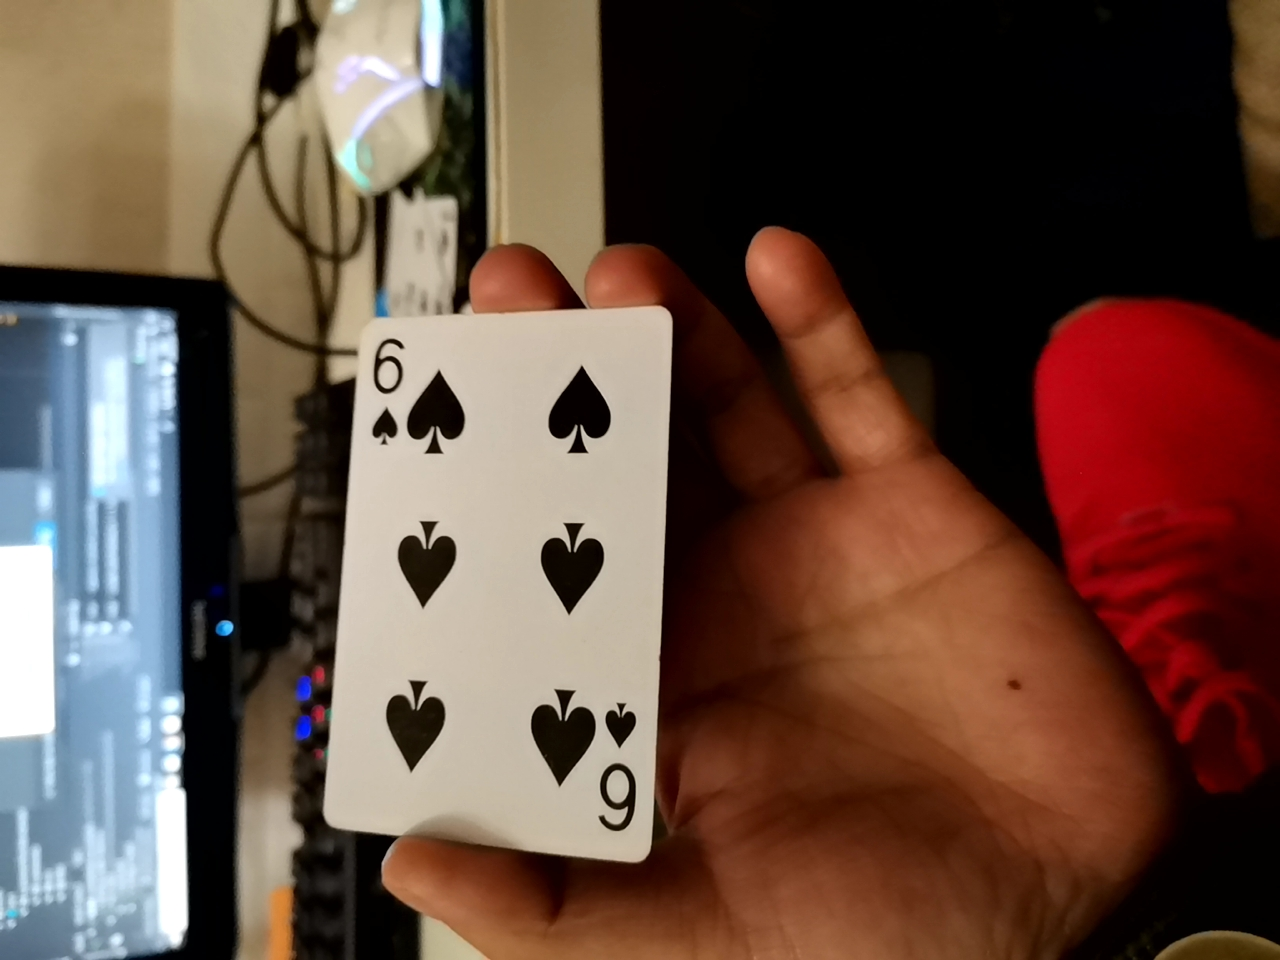ht 6: (321, 304, 671, 891)
